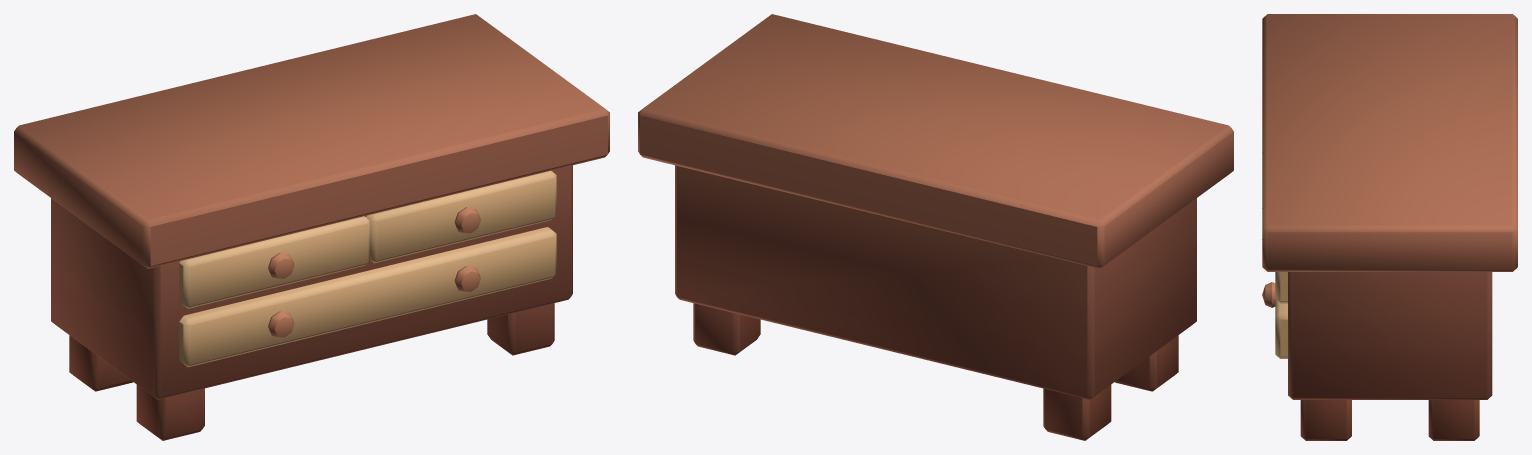
File: kkf.cabinet_medium.glb
3 renders of one model, left to right at view 1: azimuth 30°, elevation 25°; view 2: azimuth 150°, elevation 25°; view 3: azimuth 270°, elevation 25°, orthographic. The views are drawn at different scales.
Visible parts, largest first — view 1: cabinet_medium; view 2: cabinet_medium; view 3: cabinet_medium.
Part boxes in pixels (x1,y1,x2,y2): cabinet_medium: (14, 14, 609, 440); cabinet_medium: (638, 14, 1233, 440); cabinet_medium: (1262, 14, 1517, 440).
Size of the model in its own units: 1.43 by 0.7155 by 0.7166.
1 material, 1 textured.
